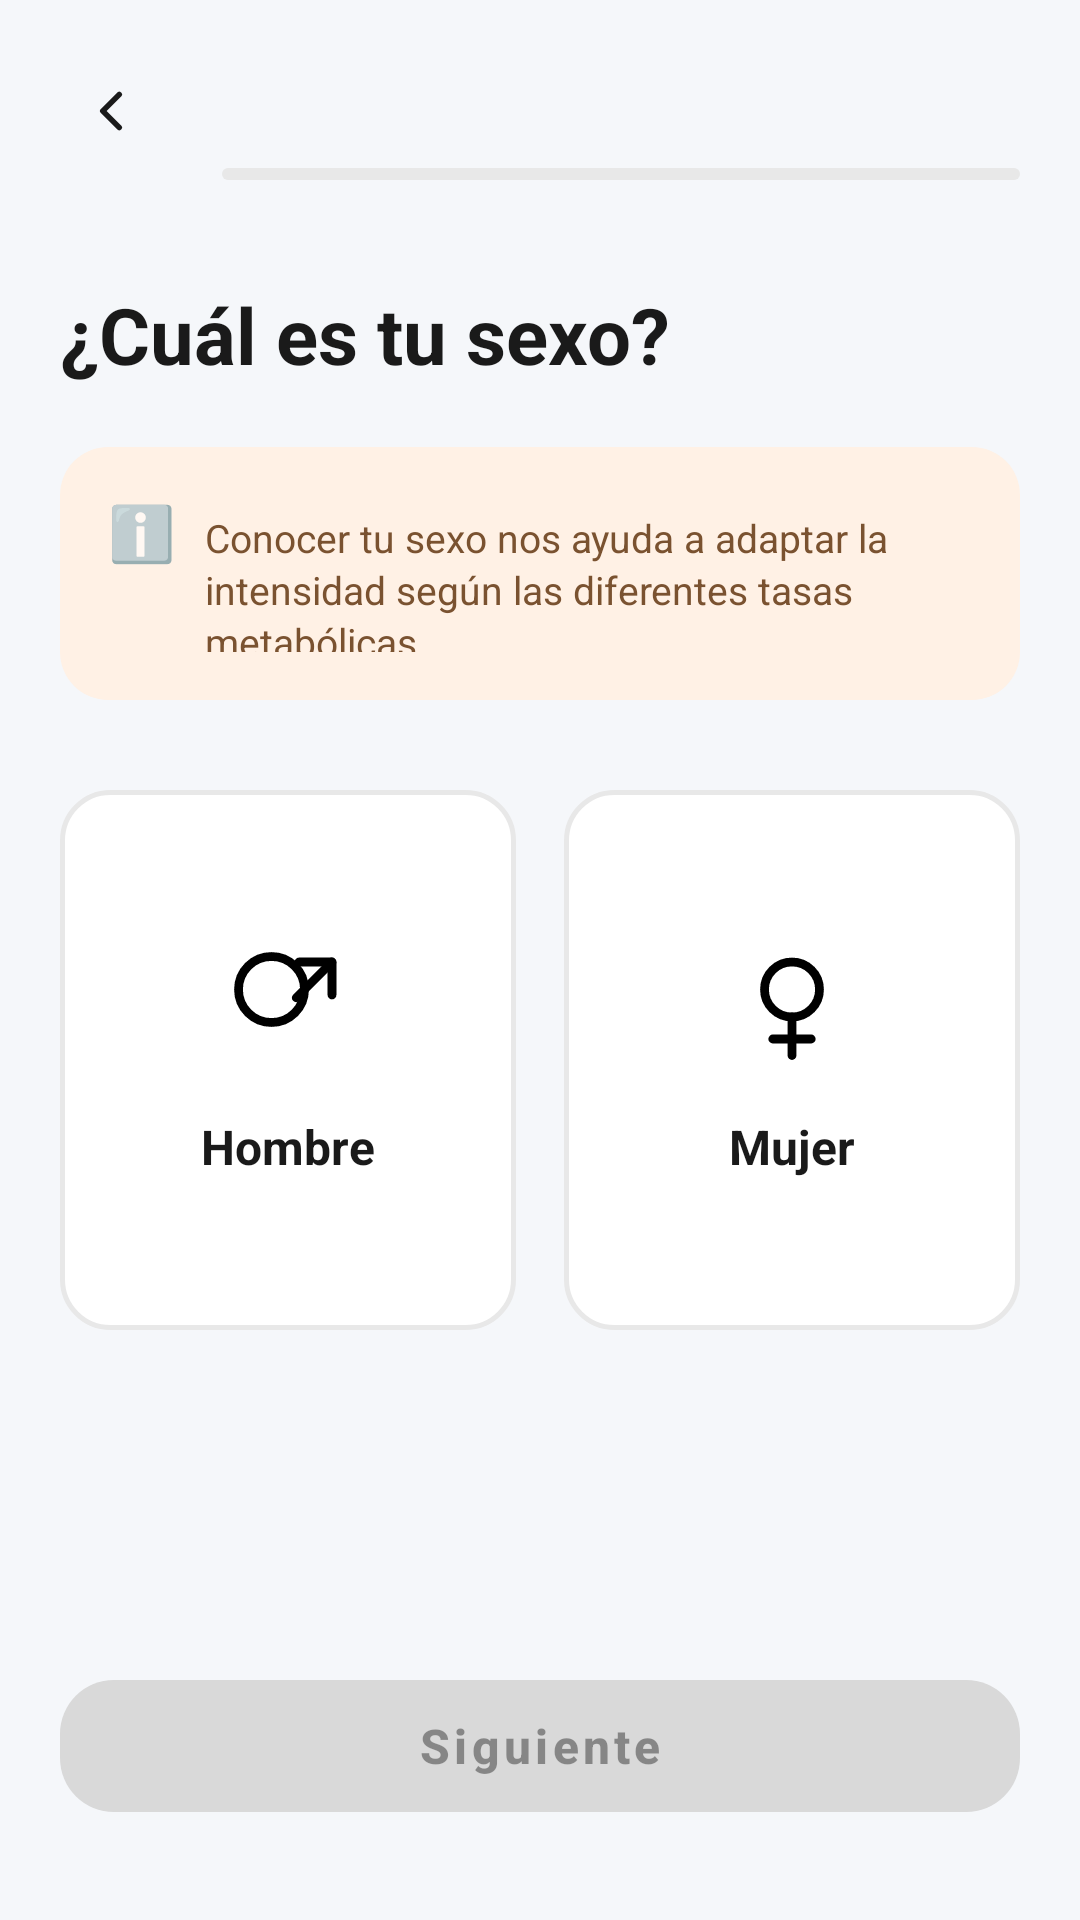

Icon bounding boxes for this 1080px×1920px phone screenshot, format (x1, y1, x2, y2):
female: (760, 957, 824, 1060)
male: (234, 952, 337, 1027)
Volver: (100, 91, 123, 131)
